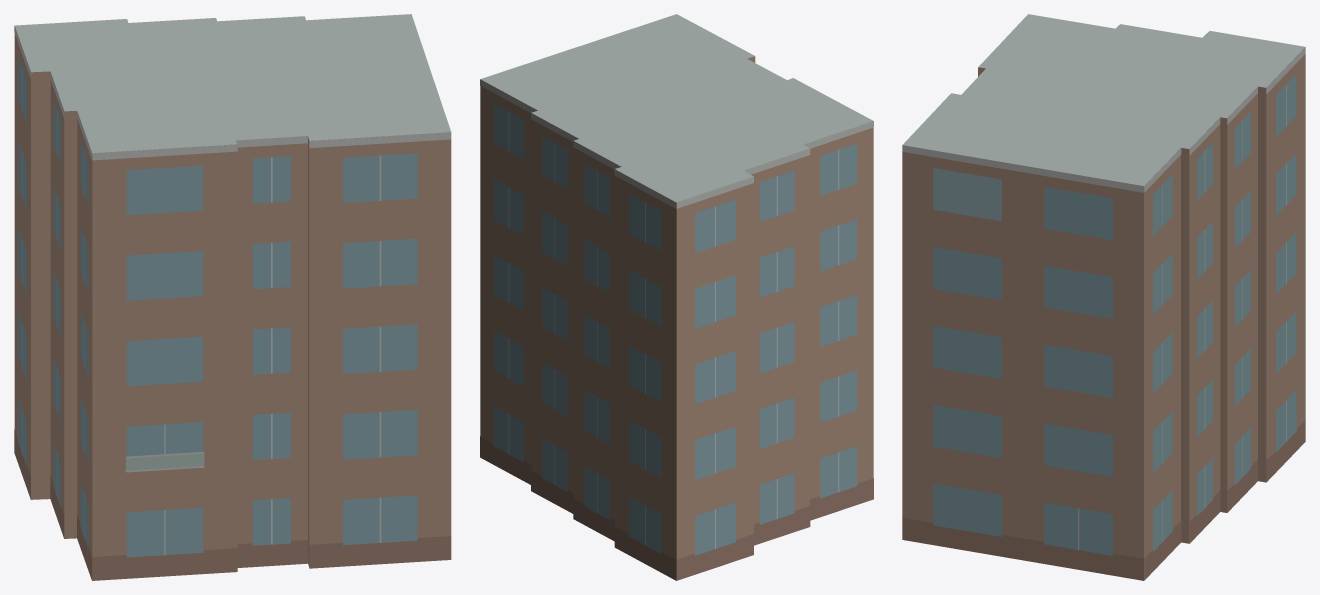
File: survey-upis-33003689.glb
3 renders of one model, left to right at view 1: azimuth 30°, elevation 25°; view 2: azimuth 150°, elevation 25°; view 3: azimuth 270°, elevation 25°, orthographic. The views are drawn at different scales.
Parts seen in each view (by area): view 1: survey-upis-33003689.tmp; view 2: survey-upis-33003689.tmp; view 3: survey-upis-33003689.tmp.
Part boxes in pixels (x1,y1,x2,y2): survey-upis-33003689.tmp: (14,14,451,580); survey-upis-33003689.tmp: (480,14,873,580); survey-upis-33003689.tmp: (902,14,1305,580).
Bounding box in the file's own units: 13.48 × 14.4 × 13.35.
